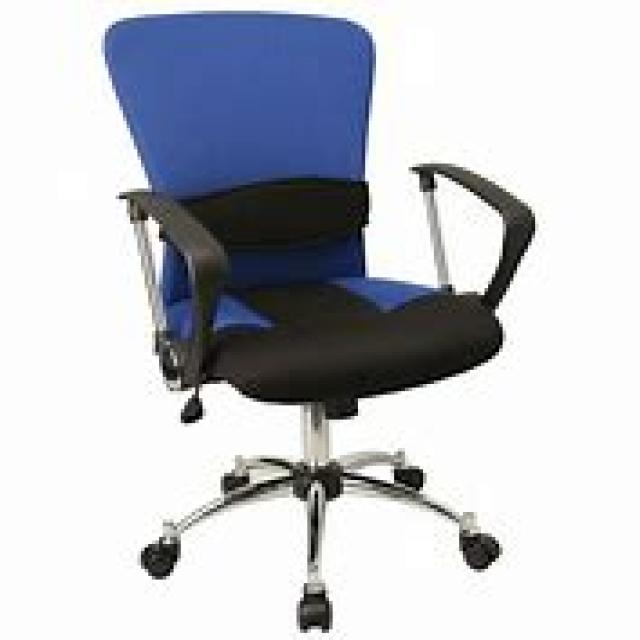chair: (98, 7, 535, 633)
